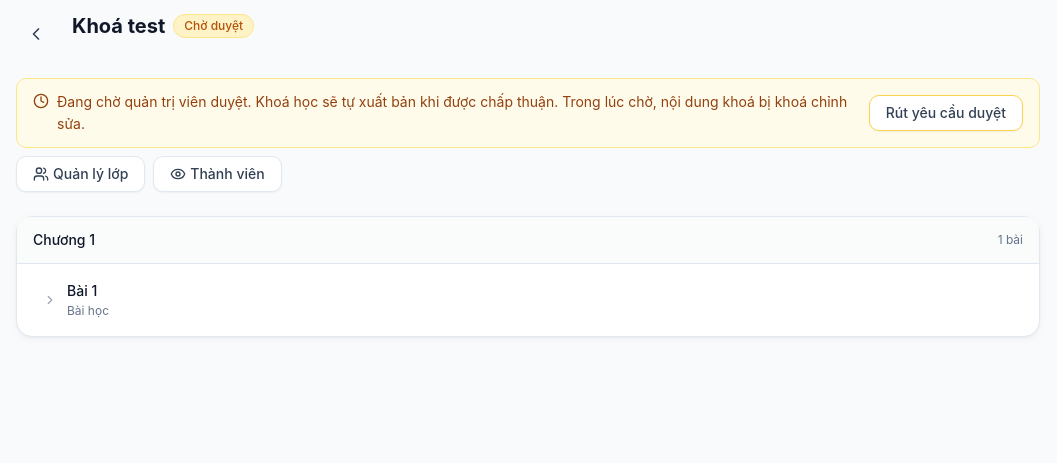
Scenario: /teacher/courses/[id] — nhân bản bài trắc nghiệm (Q2-03) › khoá chờ duyệt (chỉ đọc): không có nút nhân bản
Click the text "Bài 1": click(82, 290) 67,282 -> 97,299
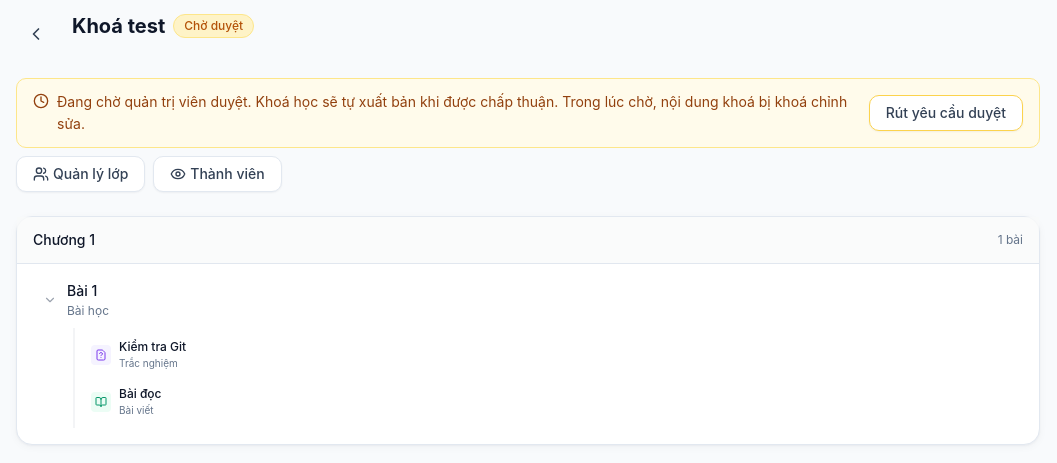
Expected: the text "Kiểm tra Git" is shown, 119,339 -> 186,354
